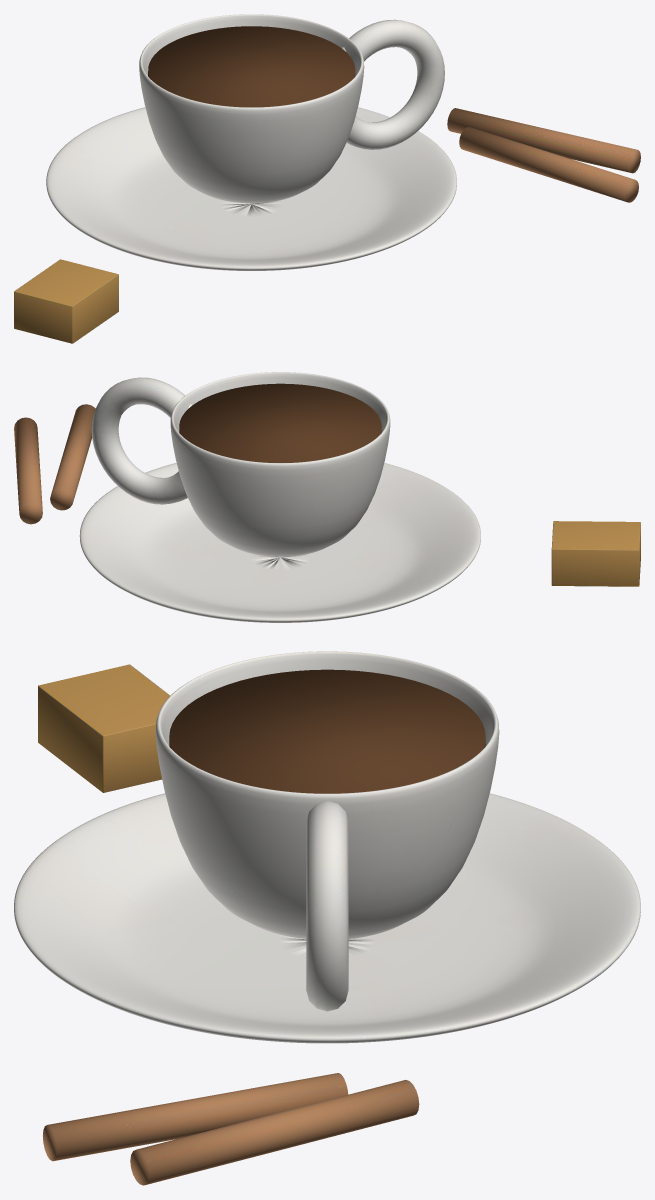
File: tinto.glb
3 renders of one model, top to bottom at view 1: azimuth 30°, elevation 25°; view 2: azimuth 150°, elevation 25°; view 3: azimuth 270°, elevation 25°, orthographic. The views are drawn at different scales.
Parts seen in each view (by area): view 1: tinto; view 2: tinto; view 3: tinto.
Part boxes in pixels (<box>): tinto: <box>14,14,640,343</box>; tinto: <box>14,372,640,622</box>; tinto: <box>14,651,640,1185</box>.
Bounding box in the file's own units: 0.2753 × 0.0644 × 0.1546.
Materials: 1 (1 with a texture image).
